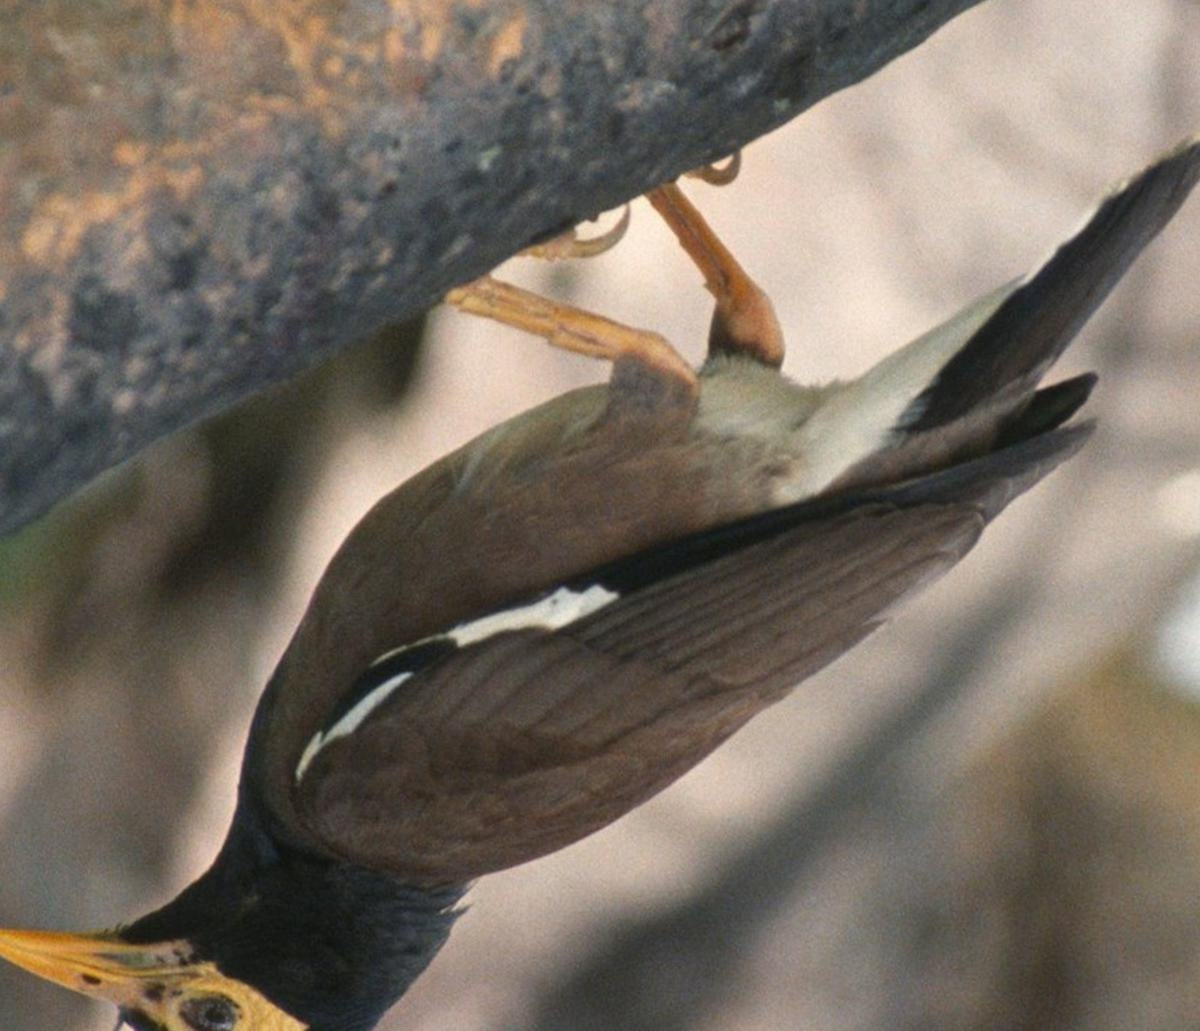myna: (1, 156, 1105, 1031)
